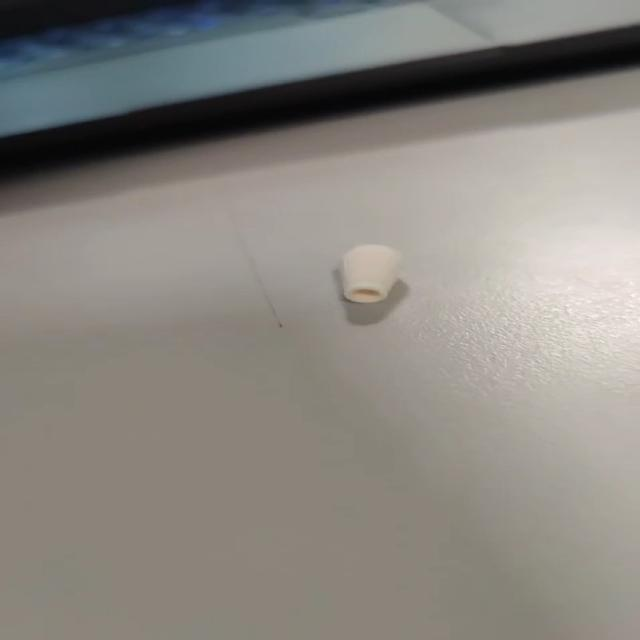Z1x1x1: (335, 242, 408, 304)
